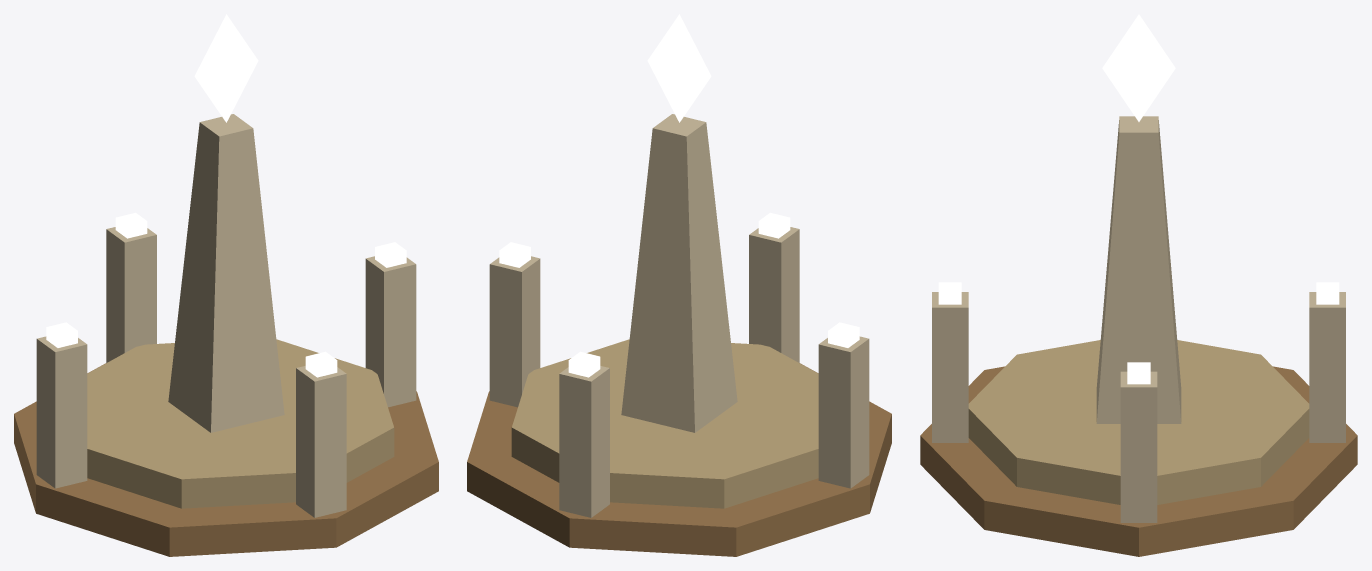
The model's file is hero_forge_t1.glb.
3 views of the same model, side by side, from view 1: azimuth 30°, elevation 25°; view 2: azimuth 150°, elevation 25°; view 3: azimuth 270°, elevation 25° (orthographic).
Visible parts, largest first — view 1: body, glow; view 2: body, glow; view 3: body, glow.
Part boxes in pixels (x1,y1,x2,y2): body: (14, 114, 438, 556); glow: (46, 14, 406, 377); body: (467, 114, 891, 556); glow: (499, 14, 859, 377); body: (920, 116, 1357, 556); glow: (938, 14, 1339, 384).
Size of the model in its own units: 1.9 by 2.16 by 1.9.
